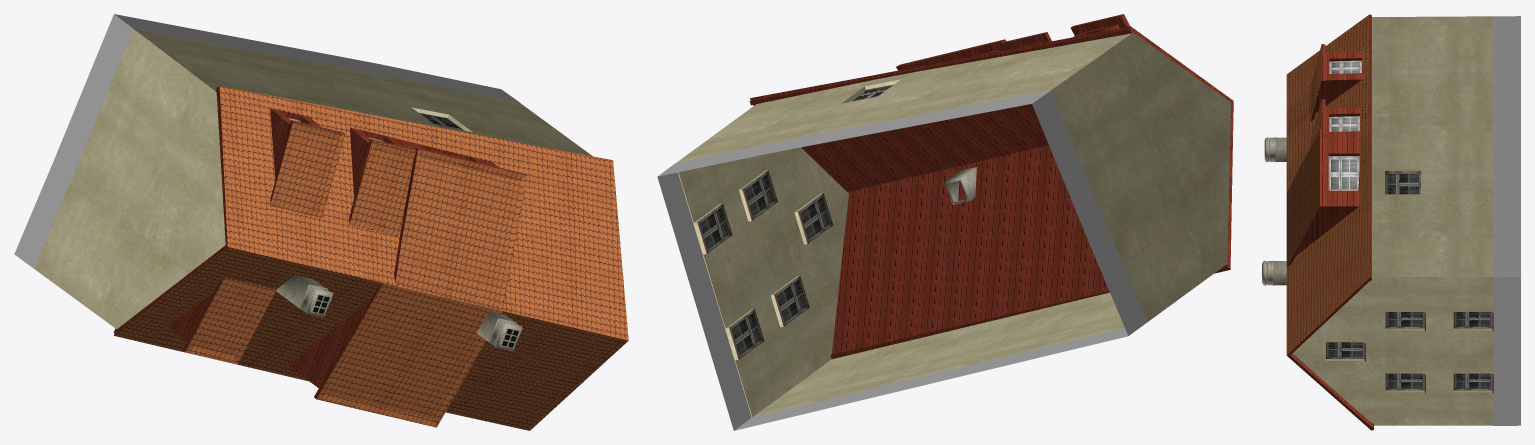
The model's file is Myyrivahe27.obj.
3 views of the same model, side by side, from view 1: azimuth 30°, elevation 25°; view 2: azimuth 150°, elevation 25°; view 3: azimuth 270°, elevation 25° (orthographic). The views are drawn at different scales.
Visible parts, largest first — view 1: Line008, Line001, ____tube002, ____tube003; view 2: Line001, Line008, ____tube003; view 3: Line001, Line008, ____tube003, ____tube002.
Boxes of the visible parts, x1,y1,x2,y2 form: Line008: (113, 86, 628, 430); Line001: (14, 14, 592, 329); ____tube002: (276, 275, 333, 317); ____tube003: (477, 312, 522, 350); Line001: (657, 32, 1230, 430); Line008: (749, 14, 1233, 359); ____tube003: (944, 167, 976, 204); Line001: (1292, 16, 1520, 425); Line008: (1286, 14, 1373, 430); ____tube003: (1262, 260, 1286, 285); ____tube002: (1264, 137, 1286, 162).
Bounding box in the file's own units: 20.47 × 16.58 × 12.68.
